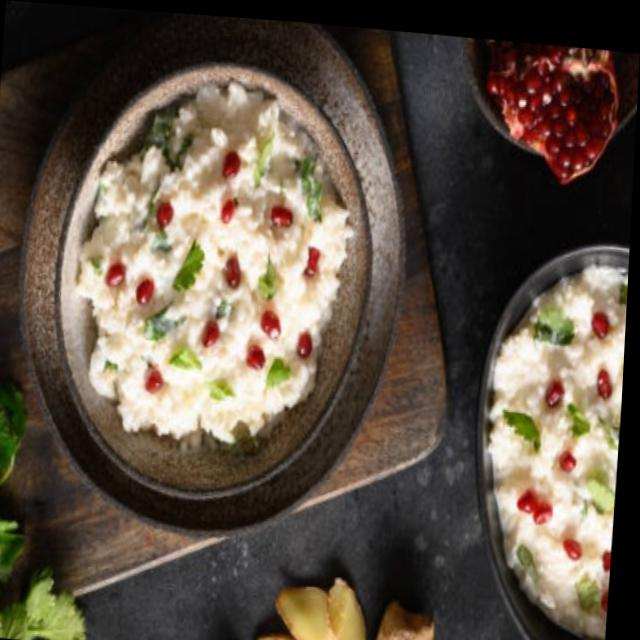CURD RICE: (75, 83, 353, 447), (487, 255, 628, 640)
